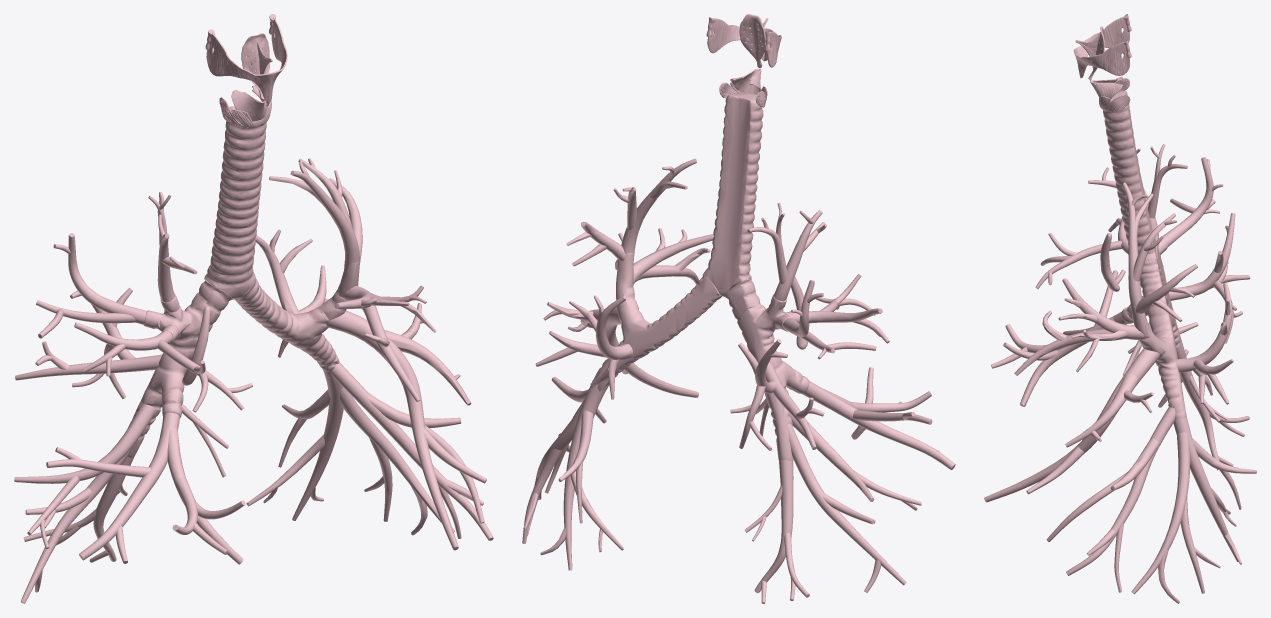
File: male-respiratory.glb
3 renders of one model, left to right at view 1: azimuth 30°, elevation 25°; view 2: azimuth 150°, elevation 25°; view 3: azimuth 270°, elevation 25°, orthographic. The views are drawn at different scales.
Visible parts, largest first — view 1: FJ2541, FJ2539, FJ2450, FJ2441, FJ2442, FJ2449, FJ2445, FJ2452, FJ2446, FJ2455, FJ2459, FJ2444 (+20 smaller); view 2: FJ2541, FJ2450, FJ2539, FJ2449, FJ2455, FJ2446, FJ2457, FJ2441, FJ2452, FJ2444, FJ2443, FJ2448 (+14 smaller); view 3: FJ2541, FJ2450, FJ2441, FJ2445, FJ2442, FJ2446, FJ2444, FJ2458, FJ2786, FJ2448, FJ2540, FJ2443 (+16 smaller).
Part boxes in pixels (x1=…): FJ2541: x1=204, y1=106, x2=266, y2=299; FJ2539: x1=128, y1=278, x2=232, y2=457; FJ2450: x1=235, y1=260, x2=359, y2=377; FJ2441: x1=326, y1=310, x2=458, y2=550; FJ2442: x1=330, y1=362, x2=493, y2=540; FJ2449: x1=79, y1=403, x2=181, y2=560; FJ2445: x1=340, y1=387, x2=454, y2=532; FJ2452: x1=14, y1=404, x2=155, y2=483; FJ2446: x1=292, y1=366, x2=343, y2=520; FJ2455: x1=20, y1=417, x2=135, y2=603; FJ2459: x1=15, y1=354, x2=161, y2=380; FJ2444: x1=290, y1=170, x2=359, y2=298; FJ2541: x1=704, y1=92, x2=763, y2=296; FJ2450: x1=591, y1=252, x2=722, y2=392; FJ2539: x1=724, y1=277, x2=809, y2=461; FJ2449: x1=801, y1=377, x2=955, y2=469; FJ2455: x1=786, y1=423, x2=906, y2=585; FJ2446: x1=563, y1=373, x2=609, y2=570; FJ2457: x1=754, y1=459, x2=793, y2=593; FJ2441: x1=605, y1=307, x2=698, y2=397; FJ2452: x1=789, y1=413, x2=874, y2=501; FJ2444: x1=619, y1=158, x2=696, y2=287; FJ2443: x1=633, y1=234, x2=713, y2=285; FJ2448: x1=596, y1=296, x2=632, y2=360; FJ2541: x1=1103, y1=90, x2=1157, y2=263; FJ2450: x1=1130, y1=259, x2=1186, y2=419; FJ2441: x1=984, y1=348, x2=1160, y2=502; FJ2445: x1=1131, y1=432, x2=1190, y2=594; FJ2442: x1=1066, y1=406, x2=1175, y2=575; FJ2446: x1=1173, y1=404, x2=1238, y2=561; FJ2444: x1=1122, y1=182, x2=1146, y2=339; FJ2458: x1=1163, y1=157, x2=1213, y2=246; FJ2786: x1=1081, y1=41, x2=1129, y2=75; FJ2448: x1=1176, y1=282, x2=1232, y2=372; FJ2540: x1=1065, y1=373, x2=1138, y2=447; FJ2443: x1=1062, y1=278, x2=1145, y2=339.
Size of the model in its own units: 0.2394 by 0.3141 by 0.1576.
